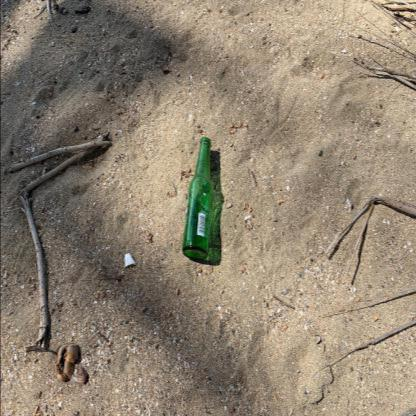Bottle cap: (181, 137, 213, 260)
Unlabeled litter: (124, 253, 135, 267)
